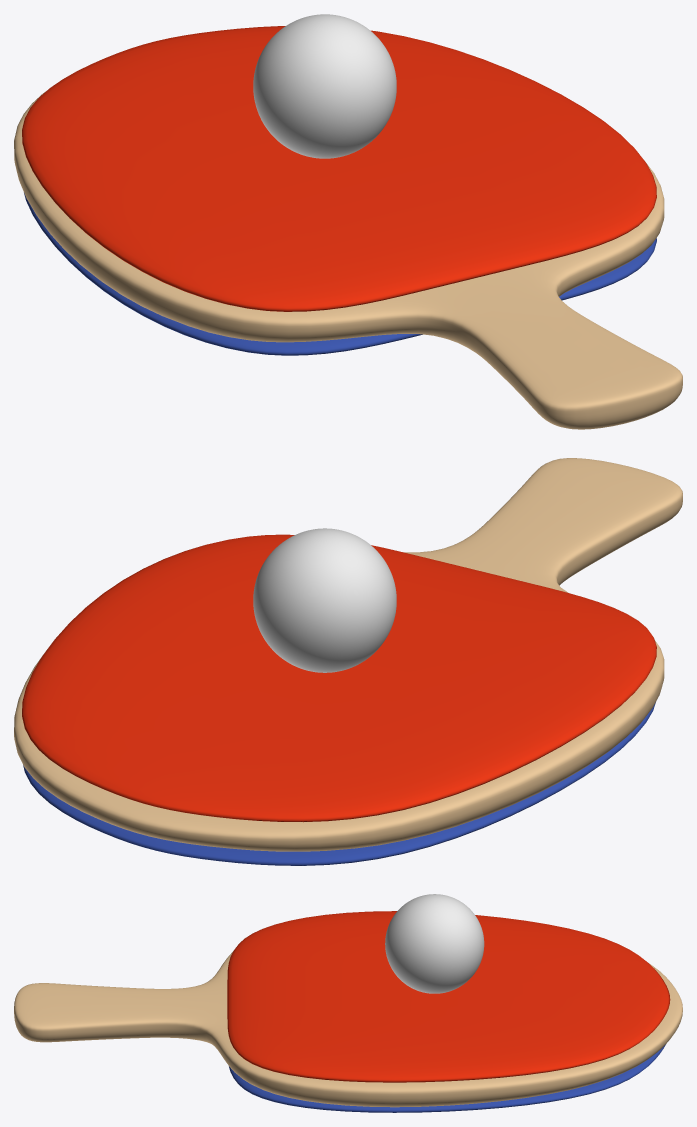
Rendered from table-tennis-racket-fun-loading-animated-3d-icon-1234193696942.glb.
The picture shows the model from 3 angles, top to bottom: view 1: azimuth 30°, elevation 25°; view 2: azimuth 150°, elevation 25°; view 3: azimuth 270°, elevation 25°; orthographic projection. The views are drawn at different scales.
Parts seen in each view (by area): view 1: Plane.006, Plane.005, Sphere.003, Plane.007; view 2: Plane.006, Plane.005, Sphere.003, Plane.007; view 3: Plane.006, Plane.005, Sphere.003, Plane.007.
Part boxes in pixels (<box>): Plane.006: <box>22,26,656,311</box>; Plane.005: <box>14,91,682,429</box>; Sphere.003: <box>253,14,396,158</box>; Plane.007: <box>24,193,656,355</box>; Plane.006: <box>22,534,656,822</box>; Plane.005: <box>14,458,682,851</box>; Sphere.003: <box>253,528,396,672</box>; Plane.007: <box>23,702,655,865</box>; Plane.006: <box>227,911,670,1082</box>; Plane.005: <box>14,952,682,1107</box>; Sphere.003: <box>385,894,484,993</box>; Plane.007: <box>229,1044,665,1112</box>.
Bounding box in the file's own units: 2.04 × 0.7457 × 3.29.
